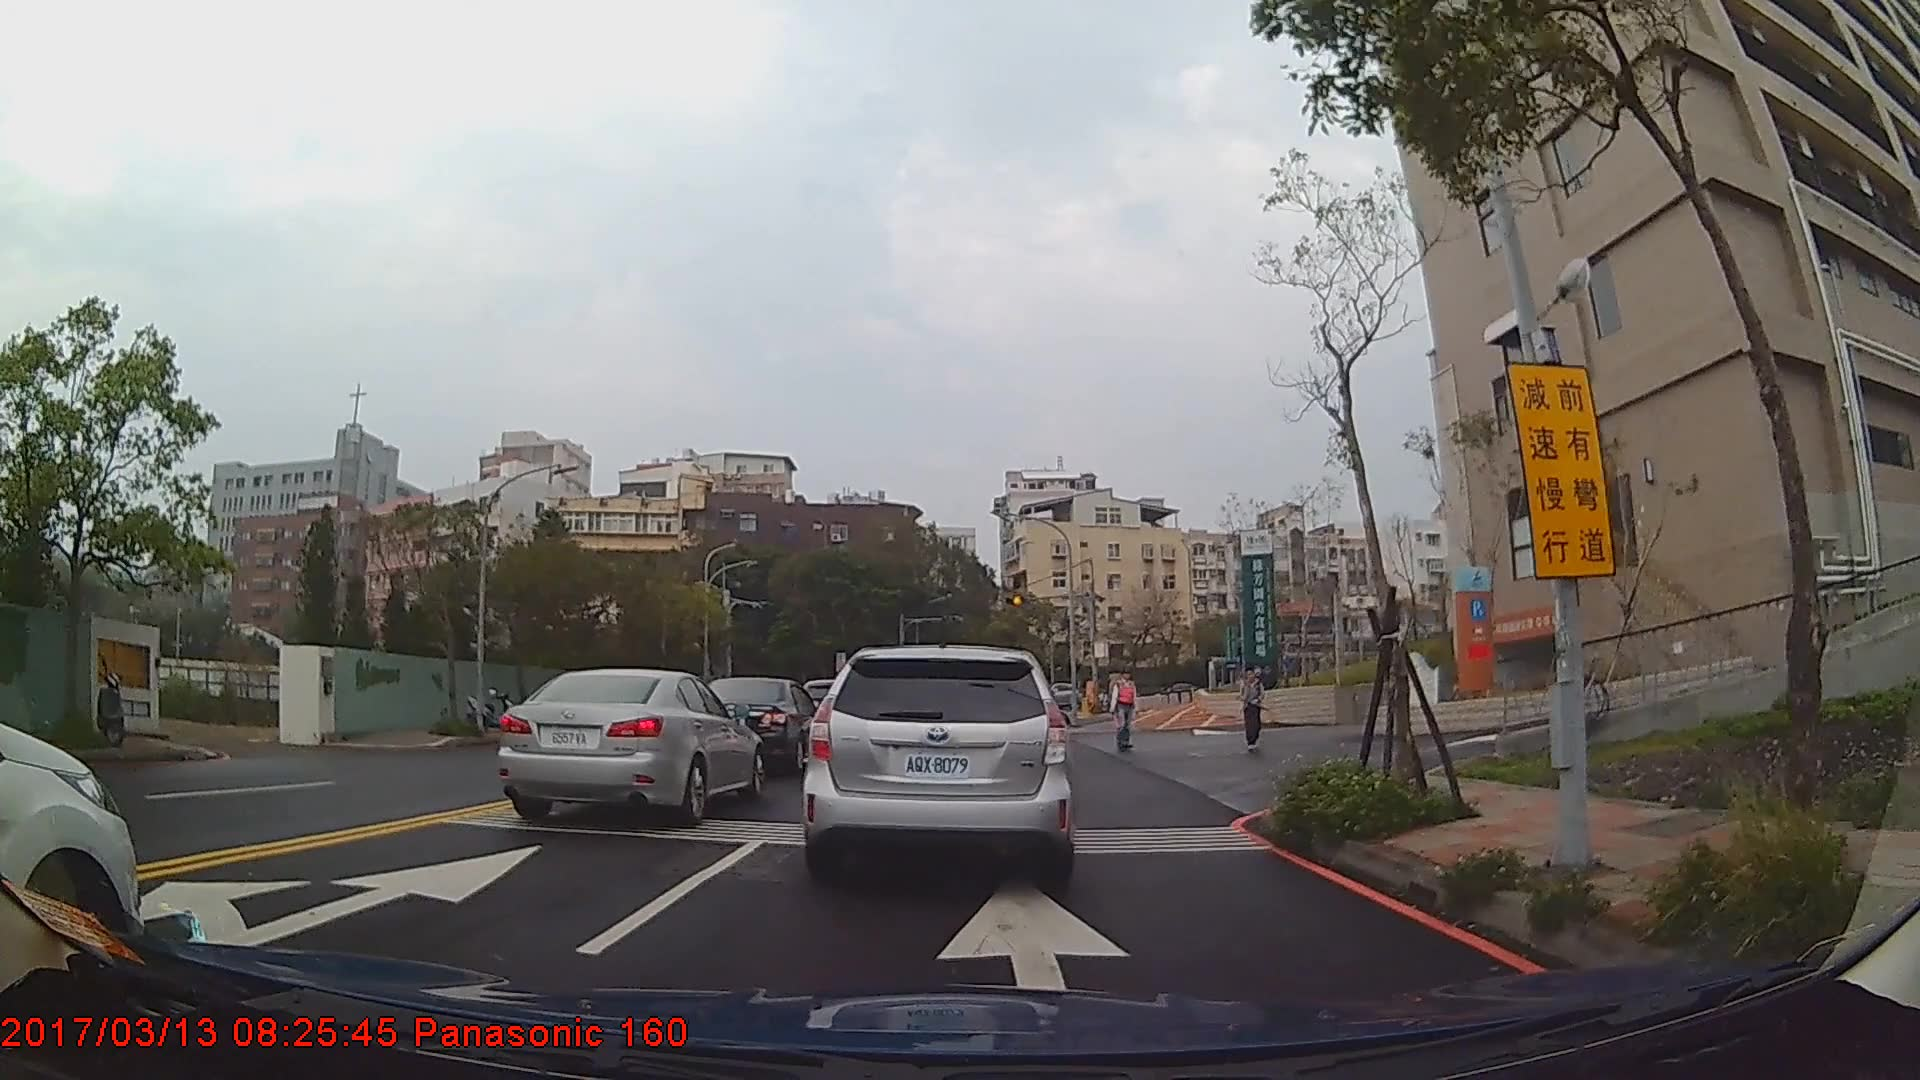pedestrian: (1109, 670, 1140, 753), (1240, 668, 1266, 754)
vehicle: (802, 642, 1074, 878), (499, 667, 763, 823), (695, 675, 820, 775)
